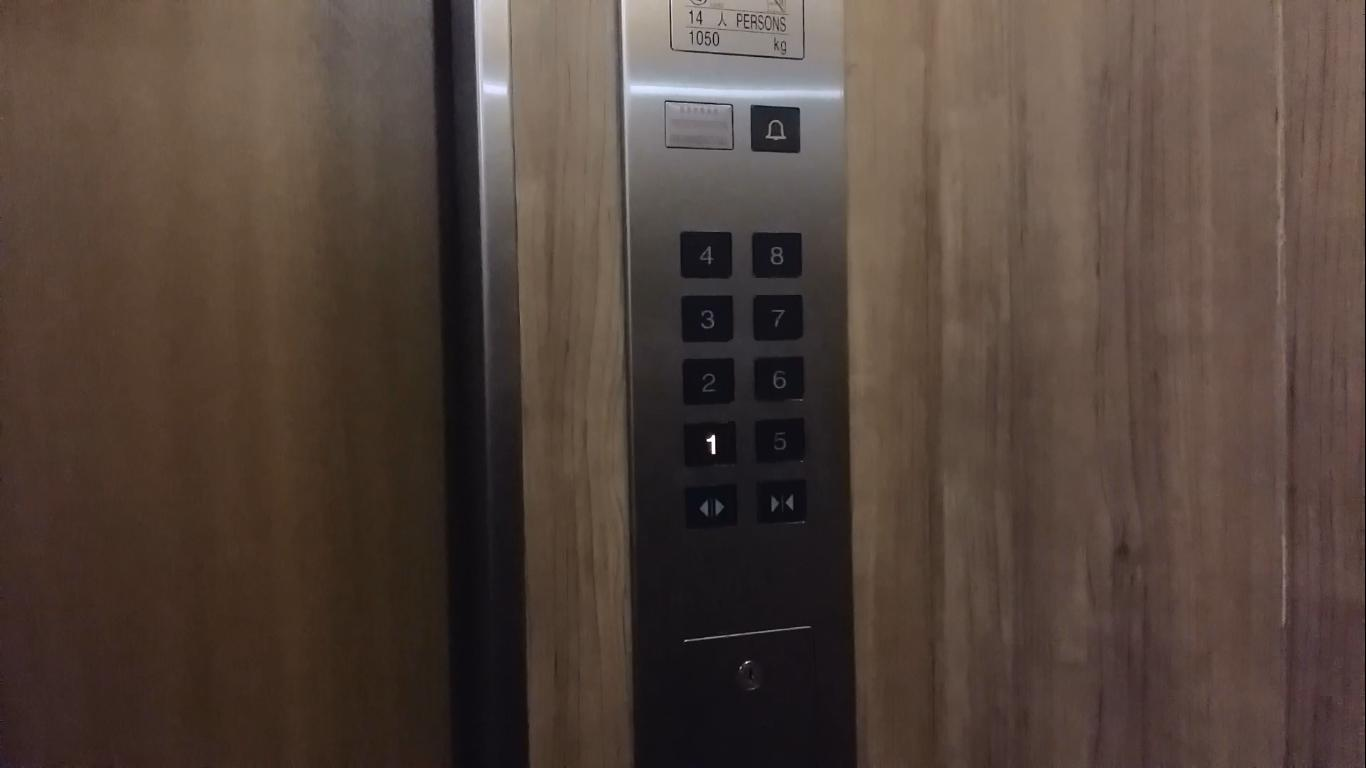1: (681, 418, 738, 464)
2: (678, 353, 736, 407)
3: (677, 290, 735, 344)
4: (676, 227, 735, 280)
5: (749, 415, 806, 465)
6: (751, 353, 808, 403)
7: (748, 290, 806, 344)
8: (747, 227, 805, 281)
alarm: (746, 100, 803, 155)
close: (751, 478, 809, 527)
keyhole: (730, 653, 765, 696)
open: (680, 481, 738, 530)
